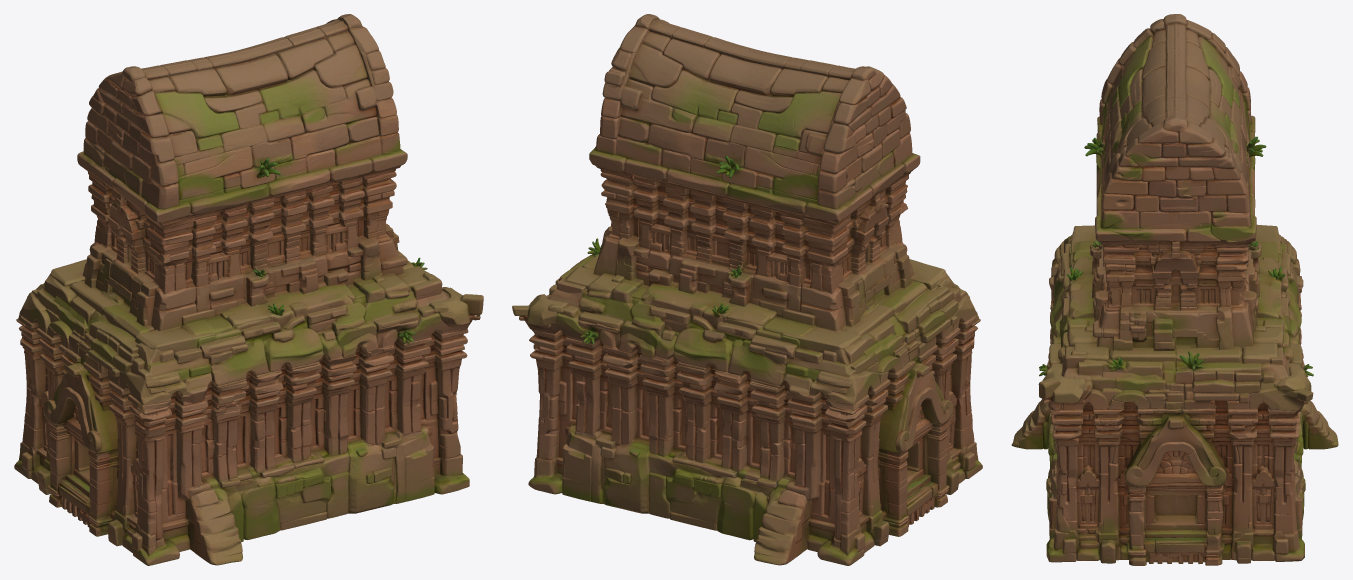
File: champa11.glb
The picture shows the model from 3 angles, left to right: view 1: azimuth 30°, elevation 25°; view 2: azimuth 150°, elevation 25°; view 3: azimuth 270°, elevation 25°; orthographic projection. The views are drawn at different scales.
Visible parts, largest first — view 1: tripo_node_d9405ad4-b142-4f33-af69-cc2b51349b0c; view 2: tripo_node_d9405ad4-b142-4f33-af69-cc2b51349b0c; view 3: tripo_node_d9405ad4-b142-4f33-af69-cc2b51349b0c.
Boxes of the visible parts, x1,y1,x2,y2 form: tripo_node_d9405ad4-b142-4f33-af69-cc2b51349b0c: (14,14,483,565); tripo_node_d9405ad4-b142-4f33-af69-cc2b51349b0c: (512,14,982,565); tripo_node_d9405ad4-b142-4f33-af69-cc2b51349b0c: (1011,14,1338,565).
Size of the model in its own units: 0.8158 by 0.9789 by 0.6911.
Materials: 1 (1 with a texture image).
